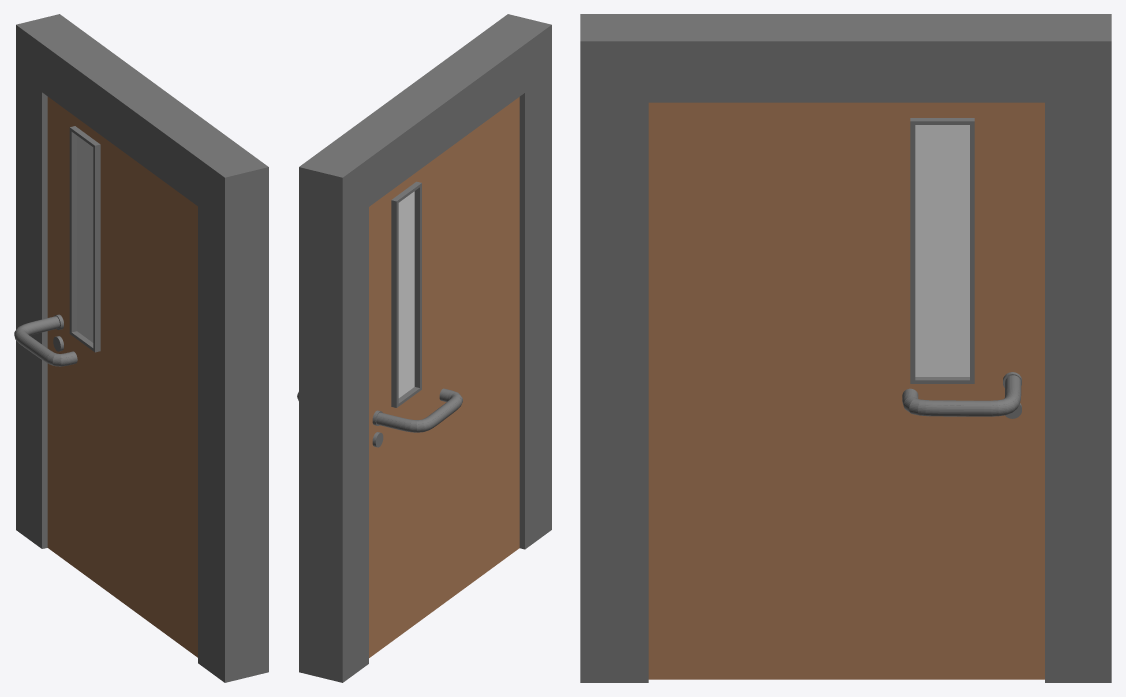
Rendered from Hospital_Door.fbx.
The picture shows the model from 3 angles, left to right: view 1: azimuth 30°, elevation 25°; view 2: azimuth 150°, elevation 25°; view 3: azimuth 270°, elevation 25°; orthographic projection. The views are drawn at different scales.
Parts seen in each view (by area): view 1: Doorframe, Door, Windowframe, Window, Handle; view 2: Doorframe, Door, Windowframe, Window, Handle; view 3: Door, Doorframe, Window, Windowframe, Handle.
Part boxes in pixels (left/top/right/bottom): Doorframe: left=16, top=14, right=268, bottom=682; Door: left=47, top=97, right=197, bottom=657; Windowframe: left=69, top=126, right=100, bottom=352; Window: left=77, top=136, right=93, bottom=342; Handle: left=14, top=316, right=77, bottom=366; Doorframe: left=299, top=14, right=551, bottom=682; Door: left=369, top=97, right=519, bottom=657; Windowframe: left=391, top=181, right=421, bottom=407; Window: left=398, top=191, right=414, bottom=397; Handle: left=297, top=388, right=462, bottom=432; Door: left=648, top=102, right=1044, bottom=679; Doorframe: left=580, top=14, right=1111, bottom=682; Window: left=915, top=125, right=969, bottom=376; Windowframe: left=910, top=118, right=974, bottom=383; Handle: left=902, top=375, right=1021, bottom=416.
Size of the model in its own units: 61.34 by 220 by 165.
